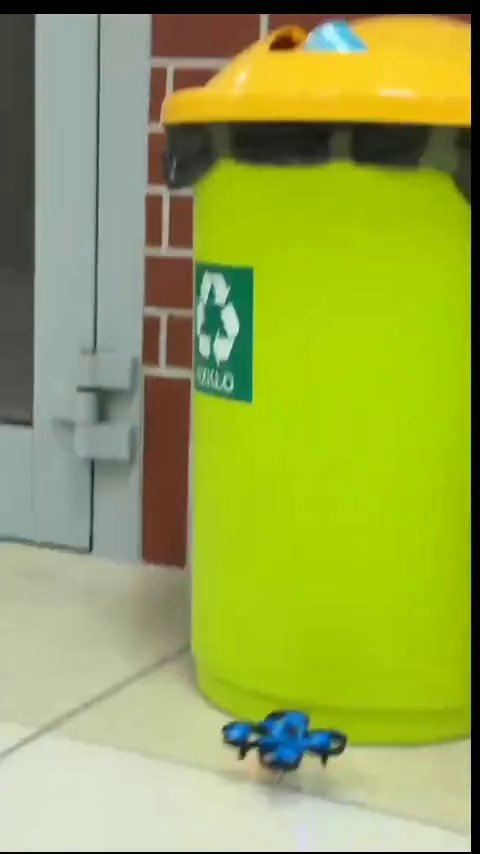drone: (227, 703, 342, 774)
